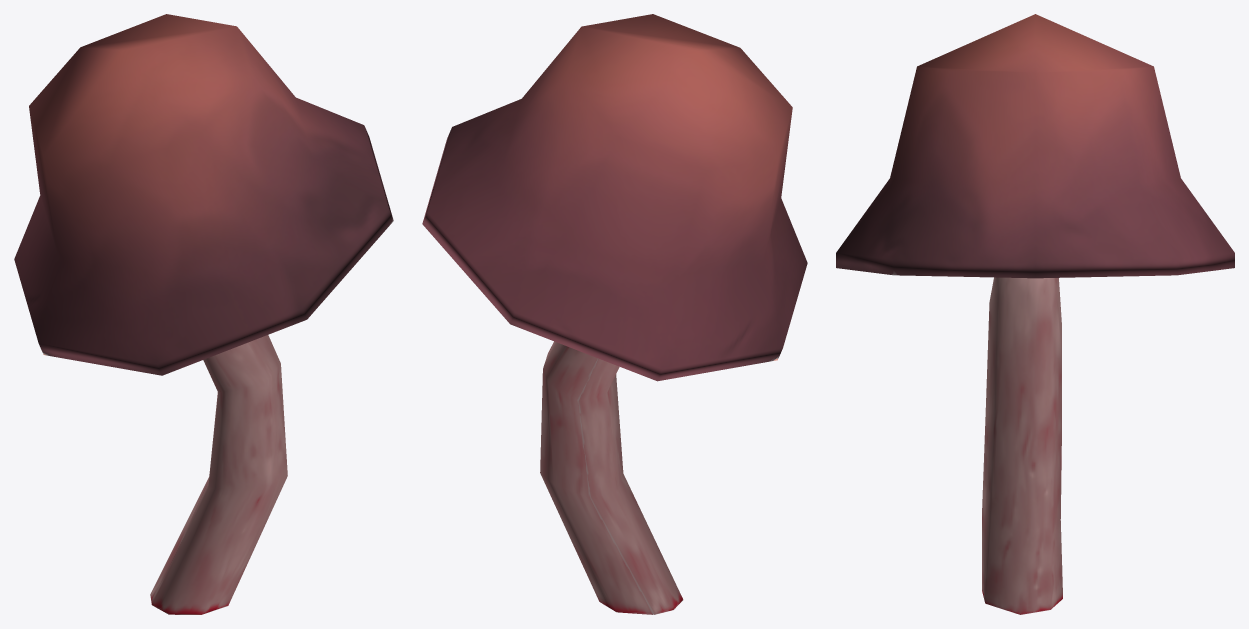
File: PROP_BendShroom_0.fbx
3 renders of one model, left to right at view 1: azimuth 30°, elevation 25°; view 2: azimuth 150°, elevation 25°; view 3: azimuth 270°, elevation 25°, orthographic. The views are drawn at different scales.
Visible parts, largest first — view 1: PROP_BendShroom_0; view 2: PROP_BendShroom_0; view 3: PROP_BendShroom_0.
Part boxes in pixels (left/top/right/bottom): PROP_BendShroom_0: left=14, top=14, right=393, bottom=614; PROP_BendShroom_0: left=422, top=14, right=807, bottom=614; PROP_BendShroom_0: left=836, top=14, right=1234, bottom=614.
Bounding box in the file's own units: 176 × 284 × 185.
1 material, 1 textured.
